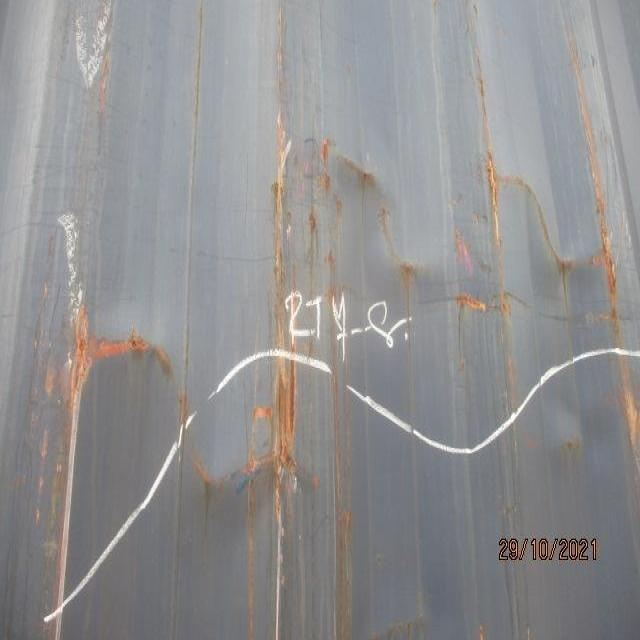dent: (50, 136, 631, 512)
